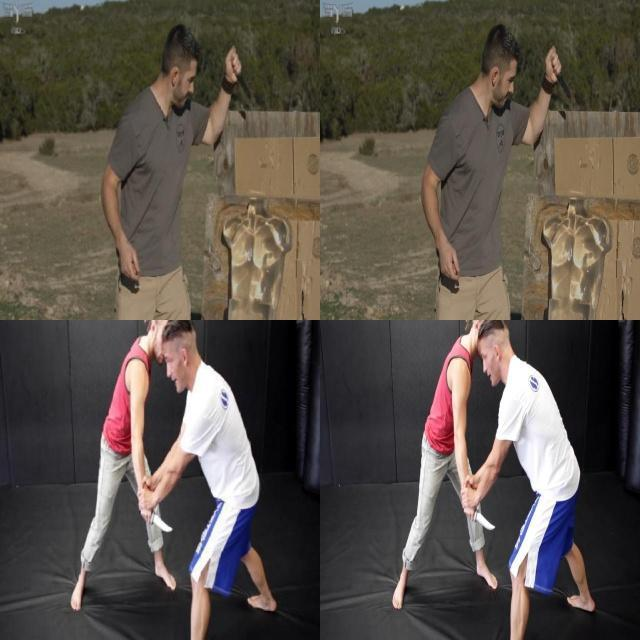-: (225, 42, 254, 106), (545, 42, 574, 106), (137, 508, 174, 535), (461, 505, 496, 533)
